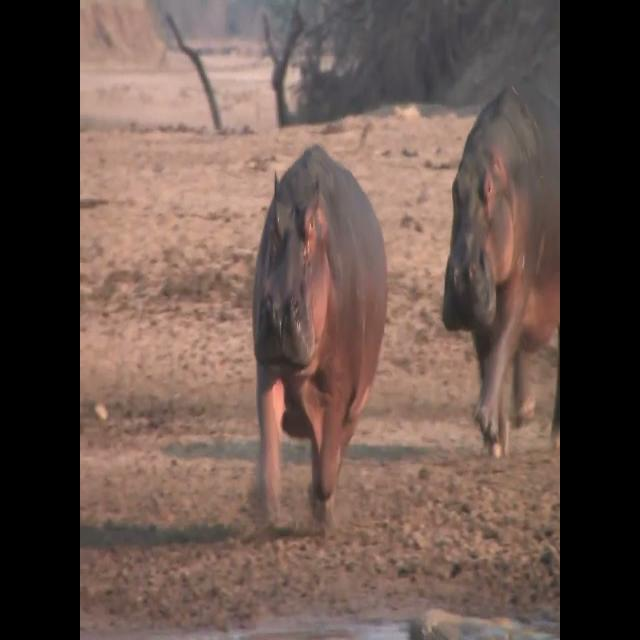Hippopotamus: (238, 141, 390, 541), (444, 76, 558, 462)
